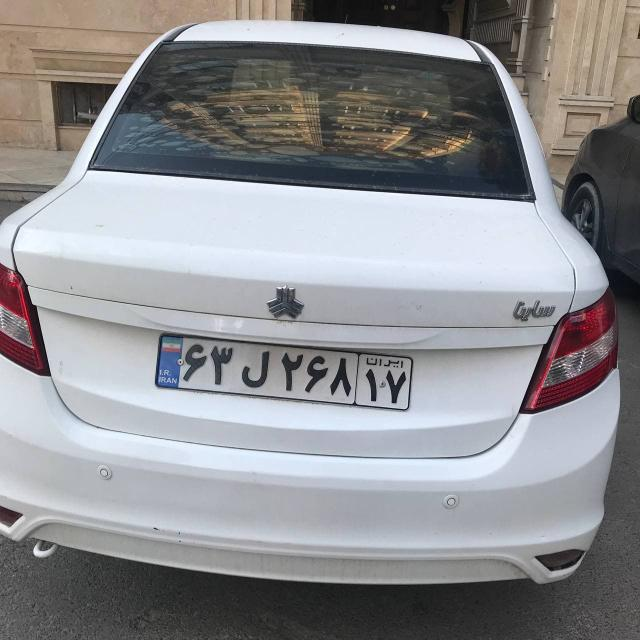Plates: (155, 333, 415, 411)
